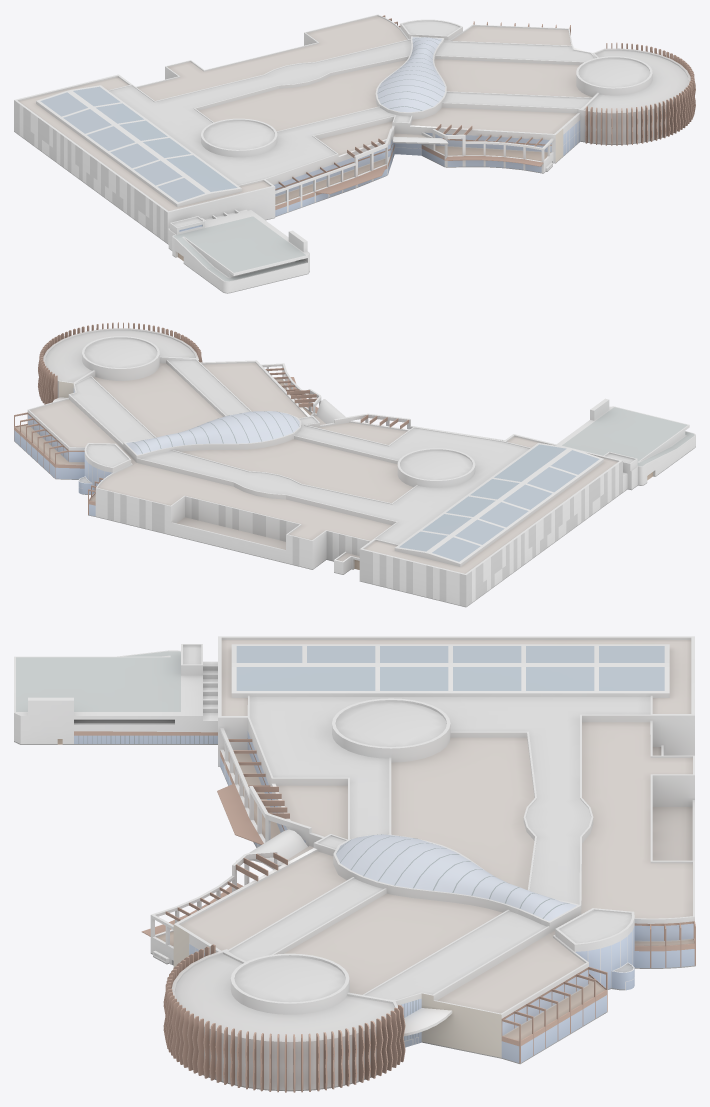
The model's file is KSA-16.glb.
3 renders of one model, top to bottom at view 1: azimuth 30°, elevation 25°; view 2: azimuth 150°, elevation 25°; view 3: azimuth 270°, elevation 25°, orthographic. The views are drawn at different scales.
Visible parts, largest first — view 1: riyadhparkmall; view 2: riyadhparkmall; view 3: riyadhparkmall.
Boxes of the visible parts, bbox=[...] form: riyadhparkmall: bbox=[14, 14, 695, 293]; riyadhparkmall: bbox=[14, 322, 695, 607]; riyadhparkmall: bbox=[14, 636, 695, 1092].
Size of the model in its own units: 407 by 32.07 by 282.
Materials: 1 (1 with a texture image).
